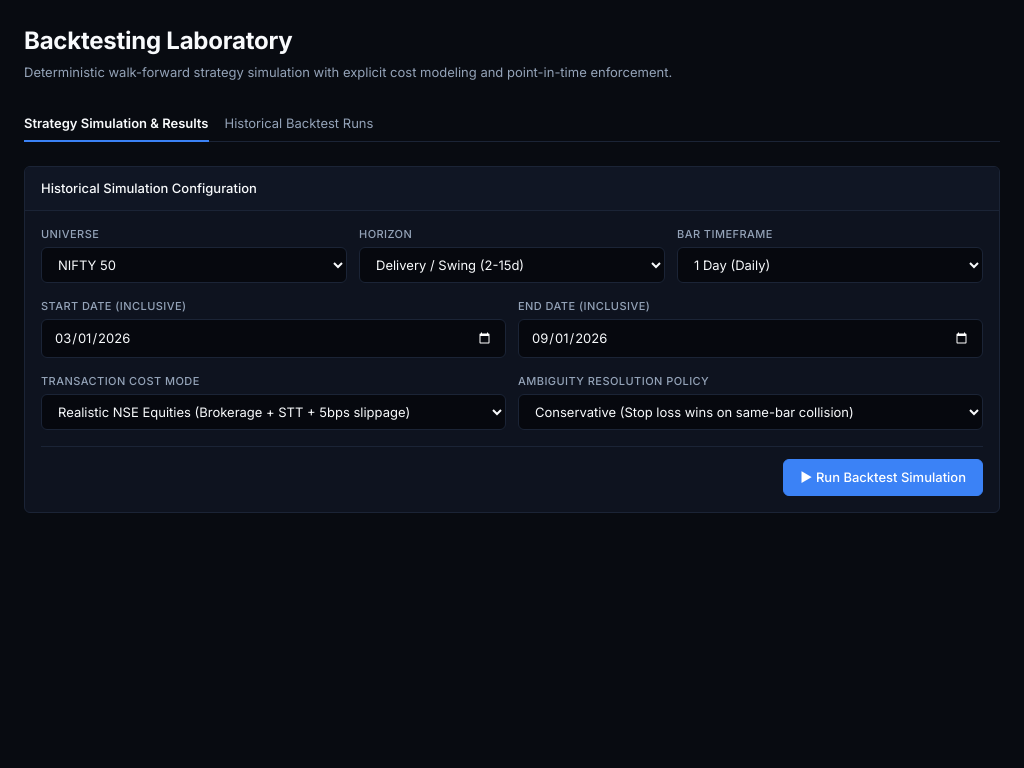
Scenario: BacktestsPage (FE-7) › handles simulation submission failure gracefully
The width and height of the screenshot is (1024, 768).
Click the button with test id "run-backtest-button": (883, 477) top-left (783, 459), bottom-right (983, 496)
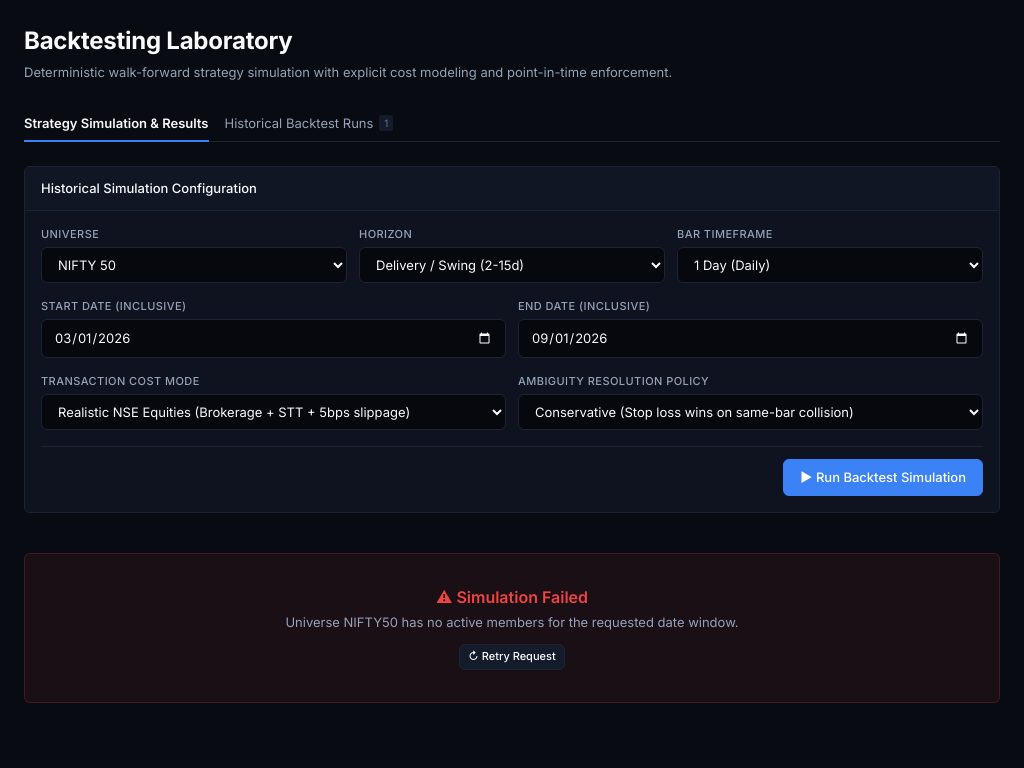
Expected: the text "⚠ Simulation Failed" is shown, top-left (436, 586), bottom-right (588, 609)
Expected: the text "Universe NIFTY50 has no active members" is shown, top-left (285, 614), bottom-right (738, 630)
